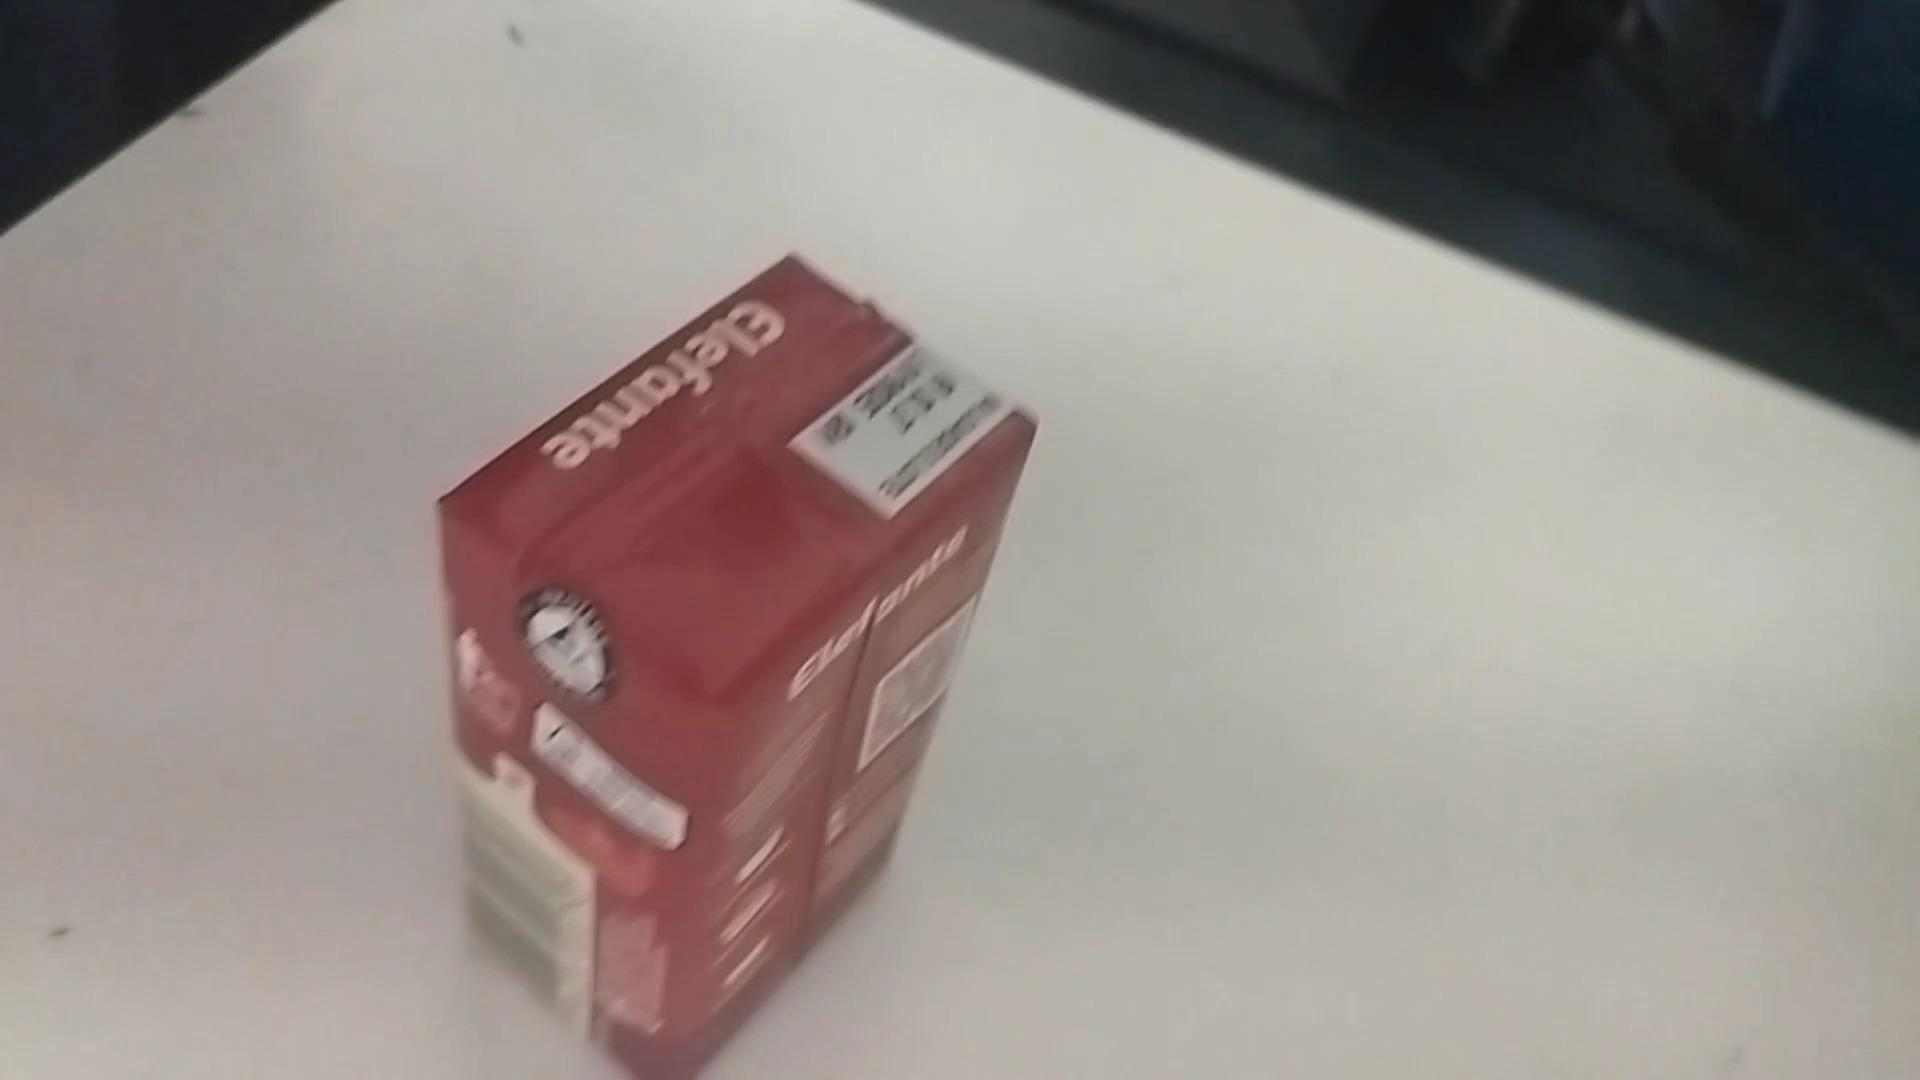tomate: (429, 247, 1051, 1071)
